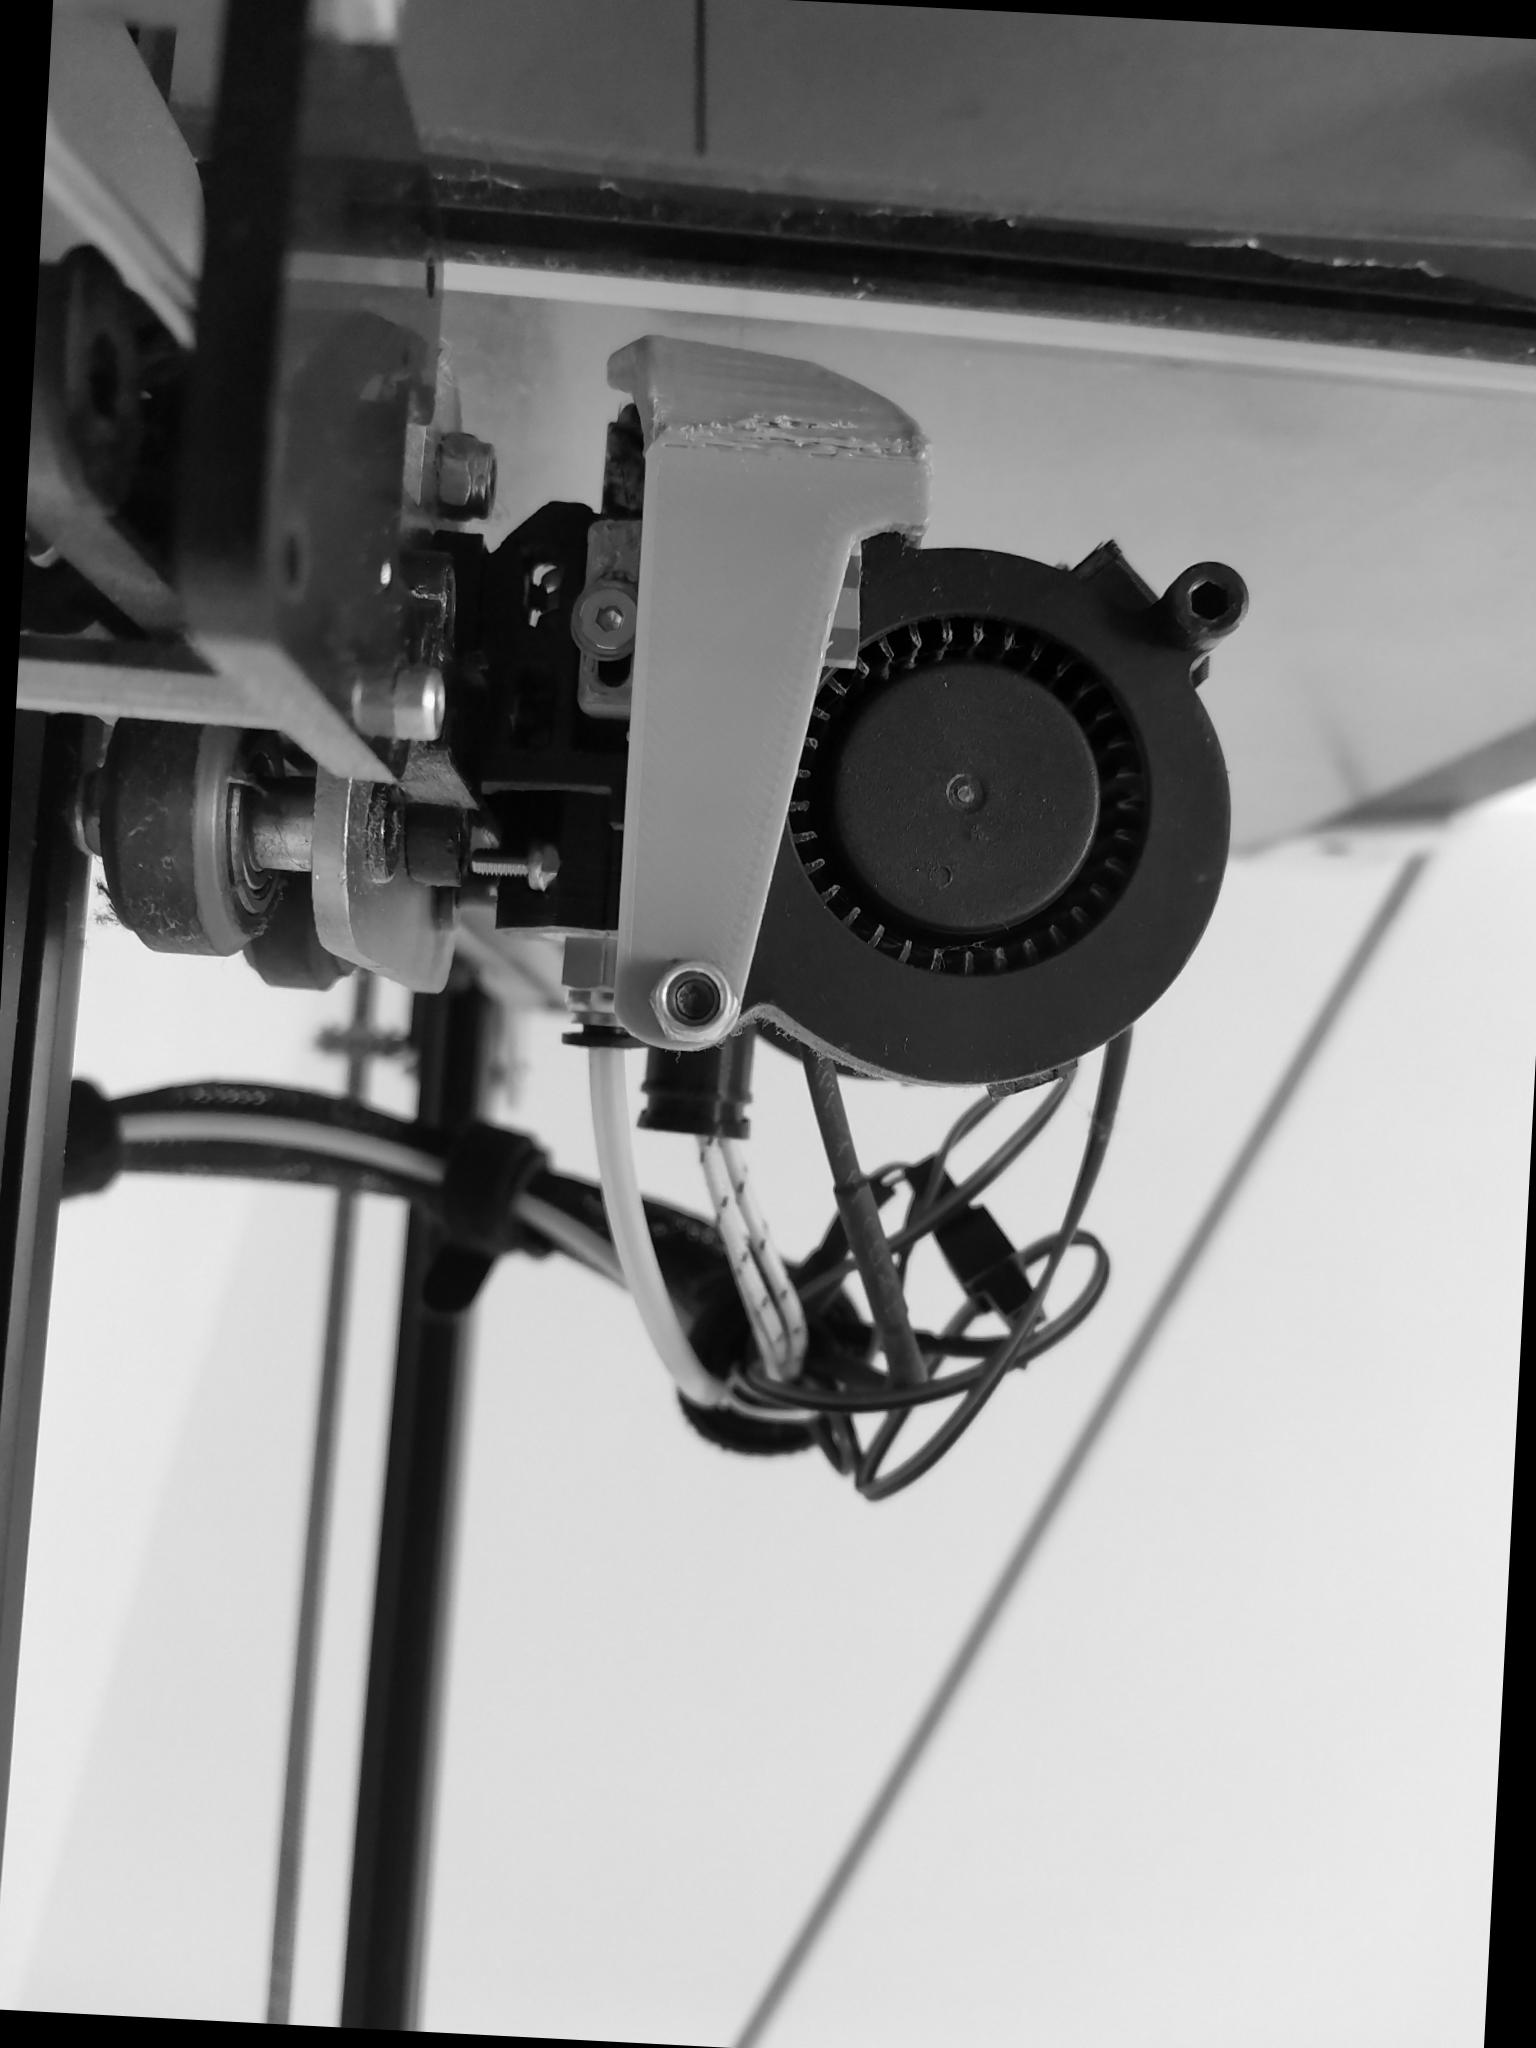screw: (634, 947, 749, 1058)
